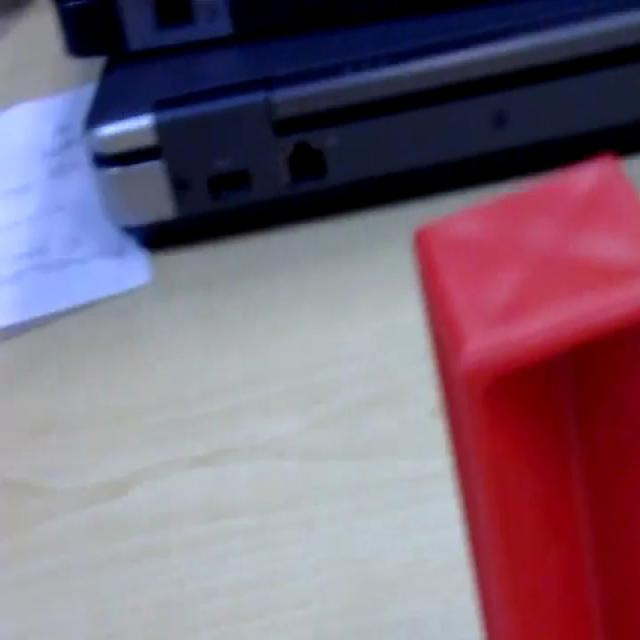red_block: (412, 149, 638, 636)
